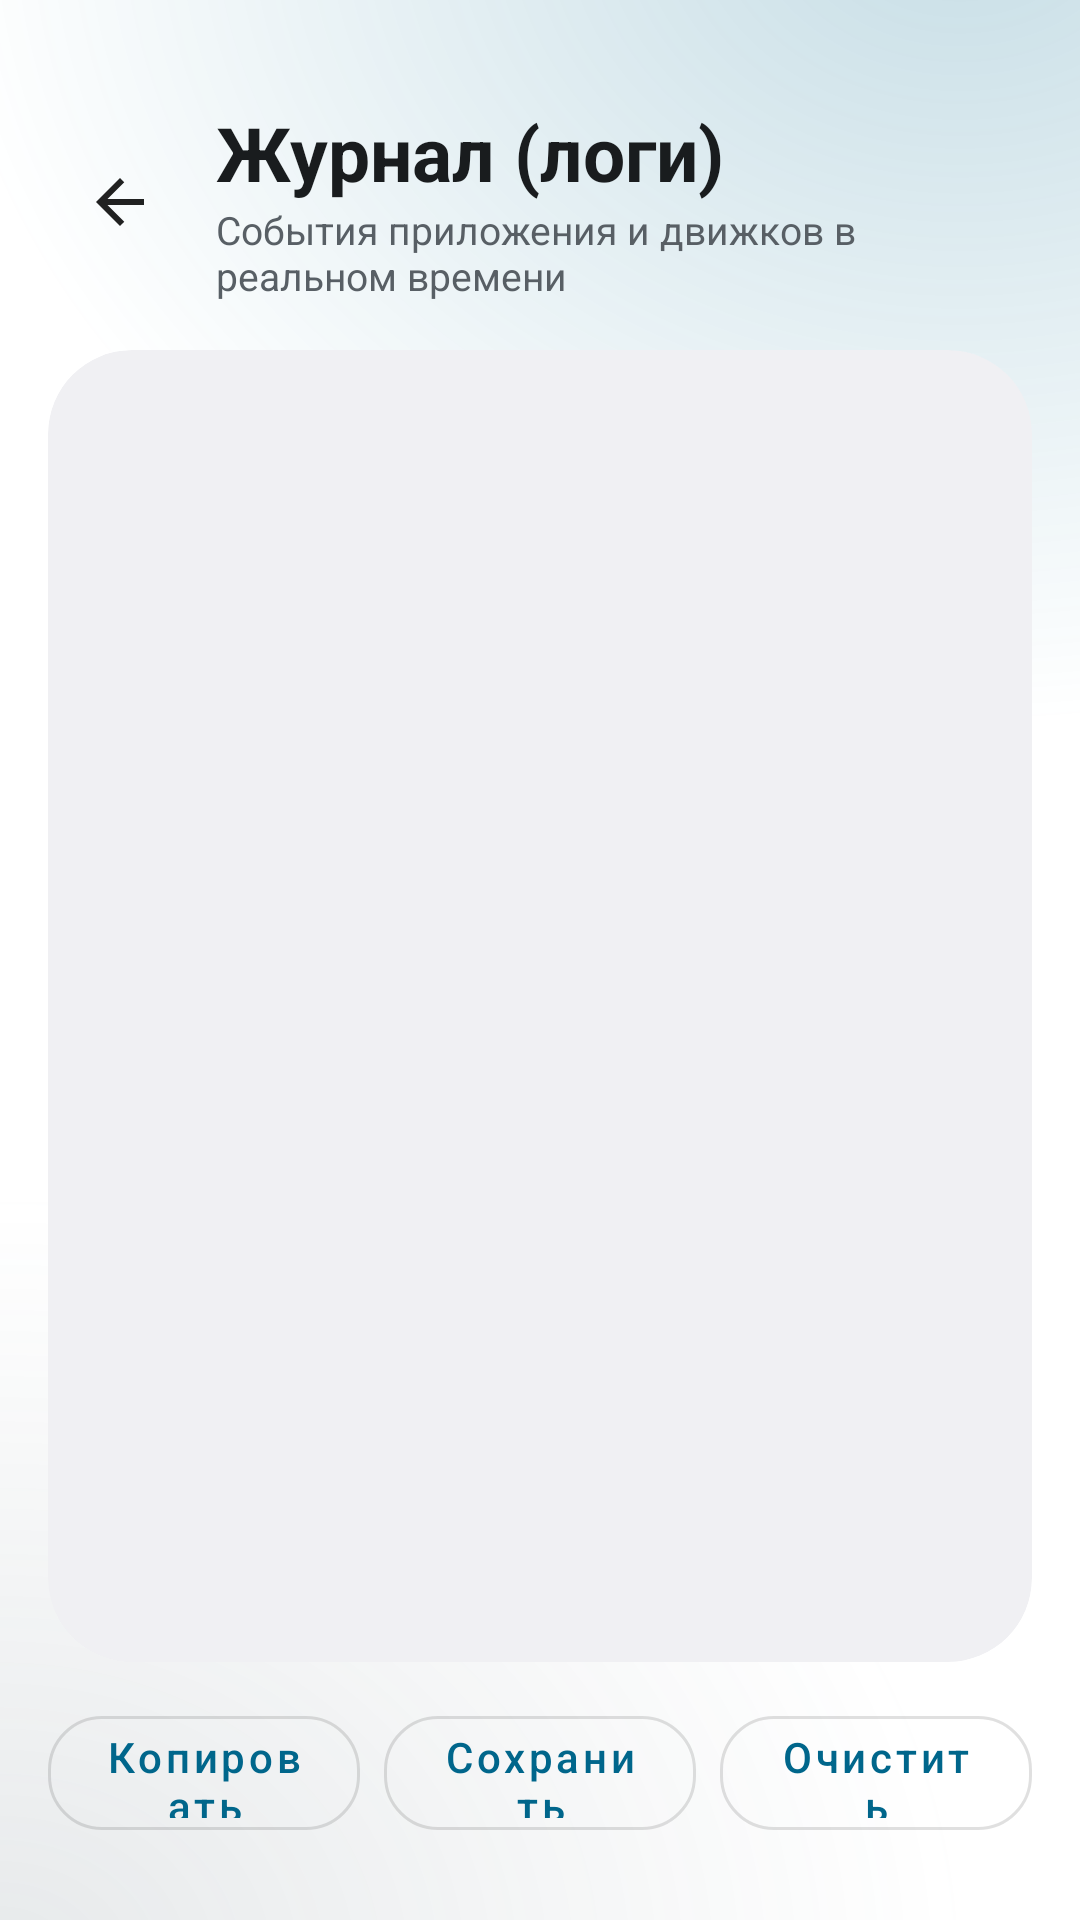

Screen size 1080 x 1920. Icon name, then its center in pixels as (x=x, y=y):
Назад: (x=120, y=202)
